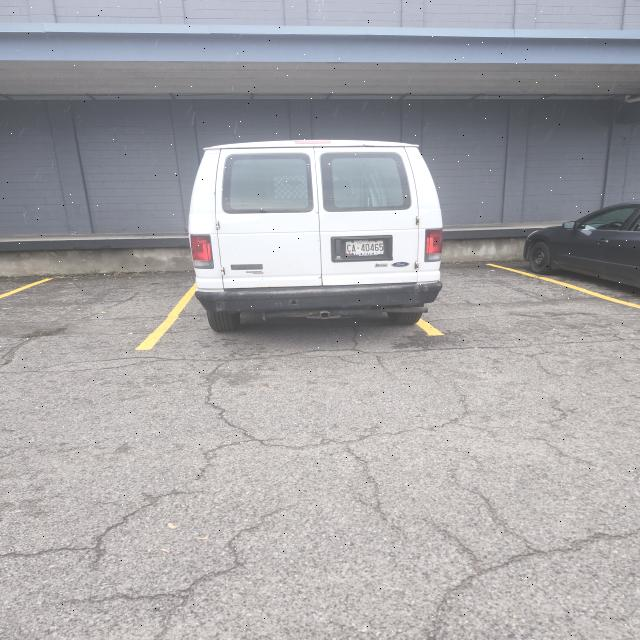plaque: (345, 239, 385, 256)
